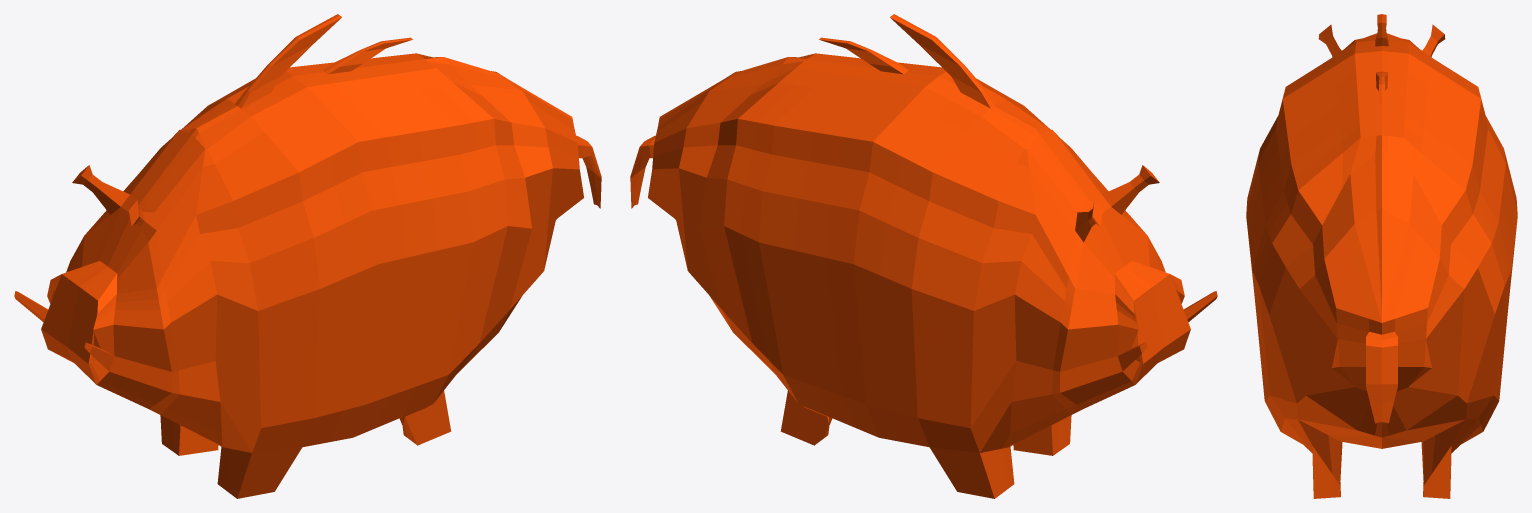
The model's file is pig.glb.
3 renders of one model, left to right at view 1: azimuth 30°, elevation 25°; view 2: azimuth 150°, elevation 25°; view 3: azimuth 270°, elevation 25°, orthographic. The views are drawn at different scales.
Visible parts, largest first — view 1: Plane; view 2: Plane; view 3: Plane.
Boxes of the visible parts, x1,y1,x2,y2 form: Plane: (14, 14, 601, 498); Plane: (630, 14, 1217, 498); Plane: (1246, 14, 1517, 498).
Bounding box in the file's own units: 3.71 × 2.75 × 1.5.
